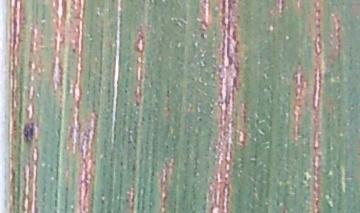tarspot: (18, 115, 39, 151)
